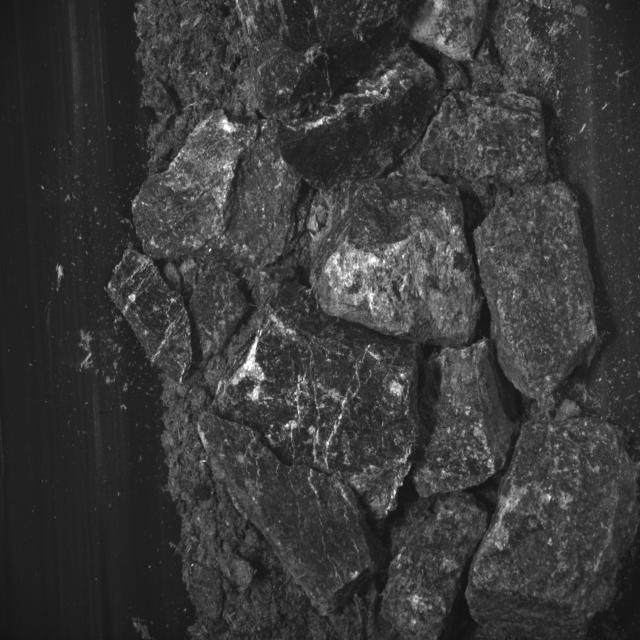Stones: (215, 284, 419, 520), (467, 419, 639, 639), (199, 414, 386, 616), (475, 183, 599, 400), (134, 112, 257, 260), (414, 340, 517, 498), (382, 493, 489, 640), (109, 251, 194, 382), (190, 268, 249, 360)
